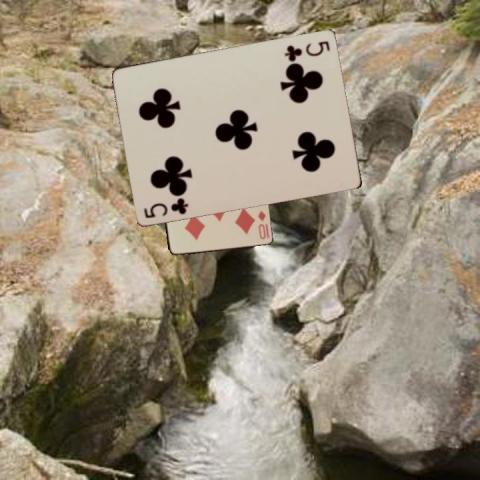10d: (255, 208, 266, 241)
5c: (282, 37, 331, 61), (141, 195, 190, 219)
